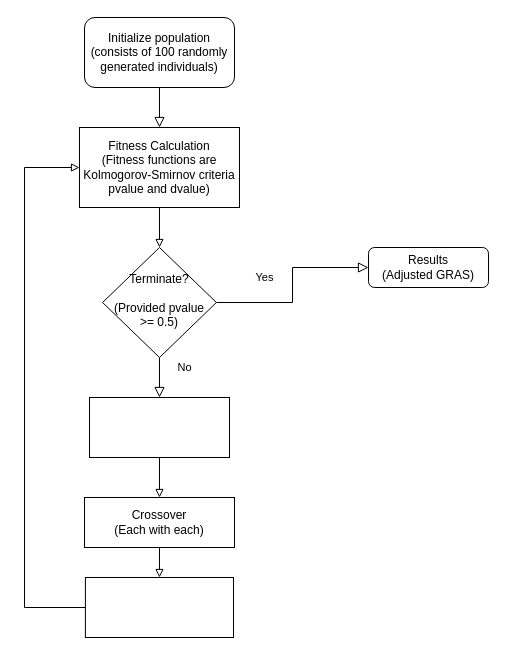
This 506x655 diagram has some shape labels left out. The box of each missing label's shape, as (x1, y1, x2, y2) in pixels:
Mutation (2 types of mutation for 15 individuals): (84, 576, 234, 638)
Selection (Select 15 best individuals from last population): (88, 396, 230, 458)
